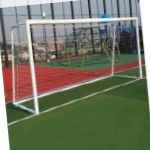goals: (10, 15, 143, 115)
